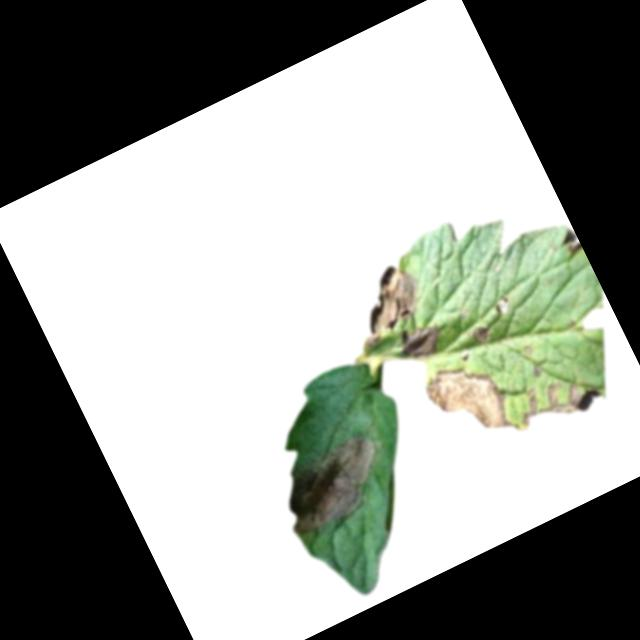Late_blight: (268, 428, 406, 547), (419, 350, 520, 457), (338, 258, 433, 350), (507, 370, 587, 436), (395, 317, 449, 368), (467, 320, 496, 349), (489, 295, 513, 318)
